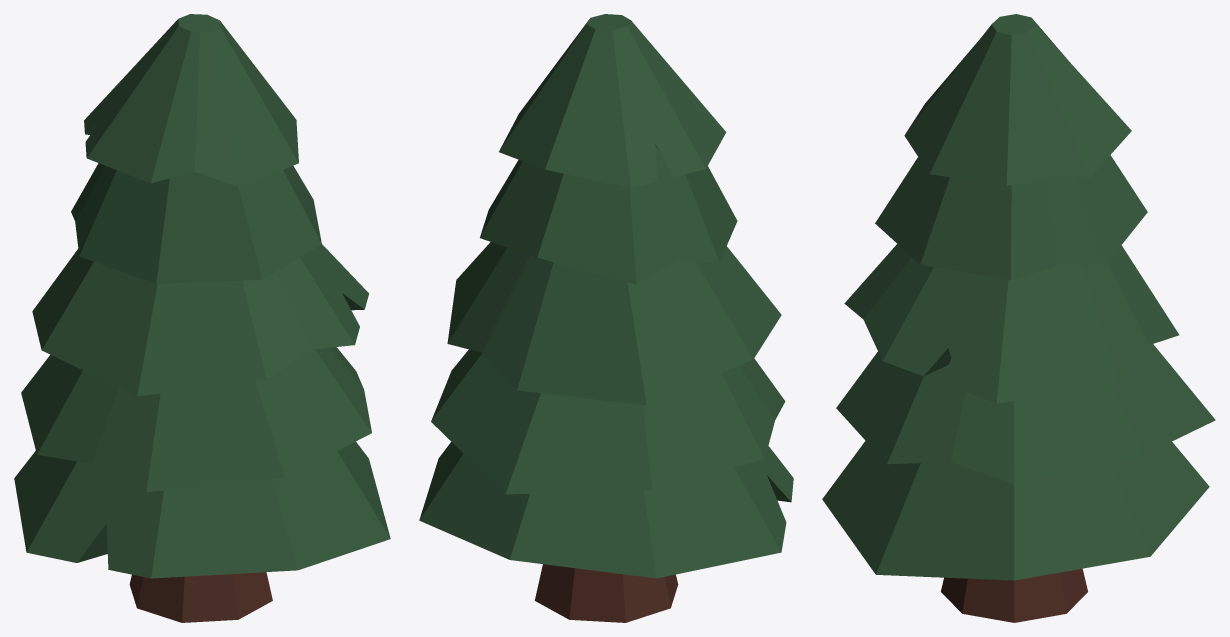
The model's file is FirTree.fbx.
The picture shows the model from 3 angles, left to right: view 1: azimuth 30°, elevation 25°; view 2: azimuth 150°, elevation 25°; view 3: azimuth 270°, elevation 25°; orthographic projection.
Parts seen in each view (by area): view 1: Cylinder.001, Cylinder.003, Cylinder.002, Cylinder.005, Cylinder.004, Cylinder; view 2: Cylinder.003, Cylinder.002, Cylinder.001, Cylinder.005, Cylinder.004, Cylinder; view 3: Cylinder.001, Cylinder.003, Cylinder.002, Cylinder.005, Cylinder.004, Cylinder.
Part boxes in pixels (<box>): Cylinder.001: <box>14,441,390,578</box>; Cylinder.003: <box>32,244,368,396</box>; Cylinder.002: <box>21,347,371,492</box>; Cylinder.005: <box>84,14,298,186</box>; Cylinder.004: <box>71,163,321,284</box>; Cylinder: <box>129,572,272,622</box>; Cylinder.003: <box>447,242,781,405</box>; Cylinder.002: <box>431,349,785,494</box>; Cylinder.001: <box>419,442,793,578</box>; Cylinder.005: <box>499,14,726,187</box>; Cylinder.004: <box>480,146,737,284</box>; Cylinder: <box>534,564,678,622</box>; Cylinder.001: <box>822,441,1209,580</box>; Cylinder.003: <box>844,244,1179,403</box>; Cylinder.002: <box>836,344,1215,484</box>; Cylinder.005: <box>904,14,1131,185</box>; Cylinder.004: <box>875,155,1147,280</box>; Cylinder: <box>941,568,1087,622</box>.
Bounding box in the file's own units: 493 × 786 × 494.
